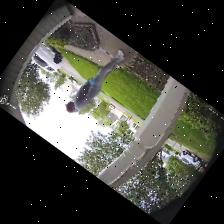person: (66, 49, 124, 112)
